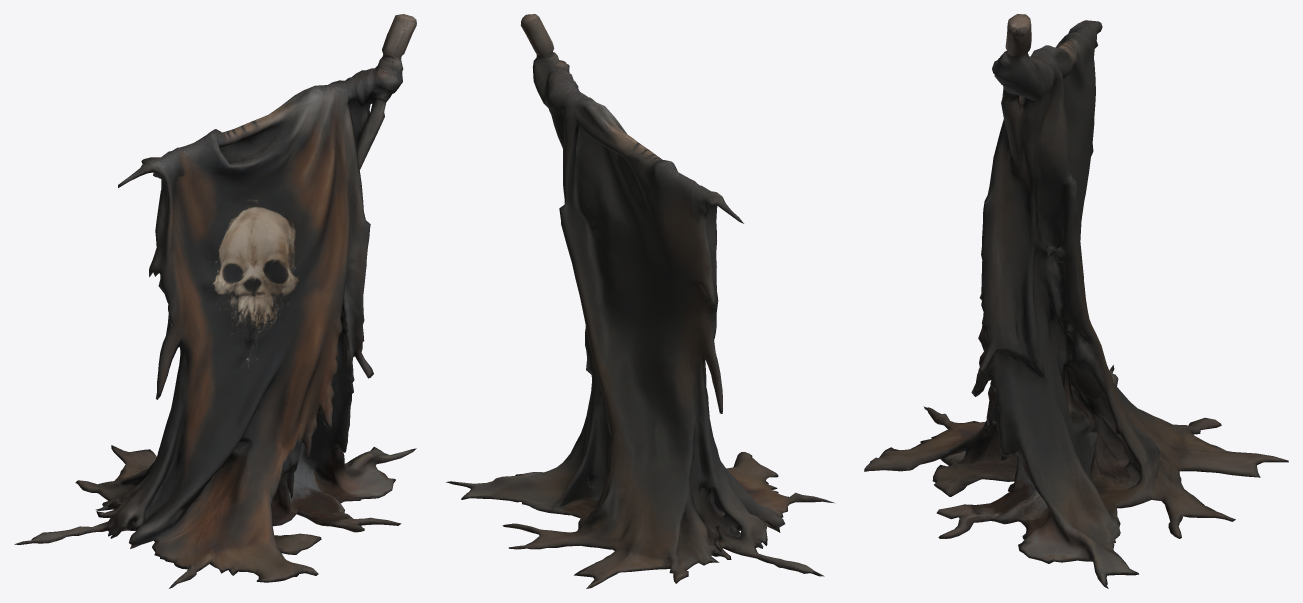
File: fallen_banner.glb
3 views of the same model, side by side, from view 1: azimuth 30°, elevation 25°; view 2: azimuth 150°, elevation 25°; view 3: azimuth 270°, elevation 25° (orthographic). The views are drawn at different scales.
Size of the model in its own units: 1.76 by 2 by 1.41.
1 material, 1 textured.
